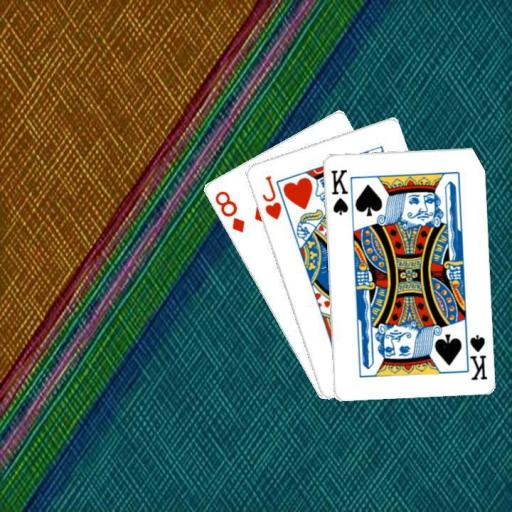8D: (211, 187, 246, 235)
JH: (258, 172, 283, 221)
KS: (461, 327, 488, 381), (327, 166, 349, 216)
